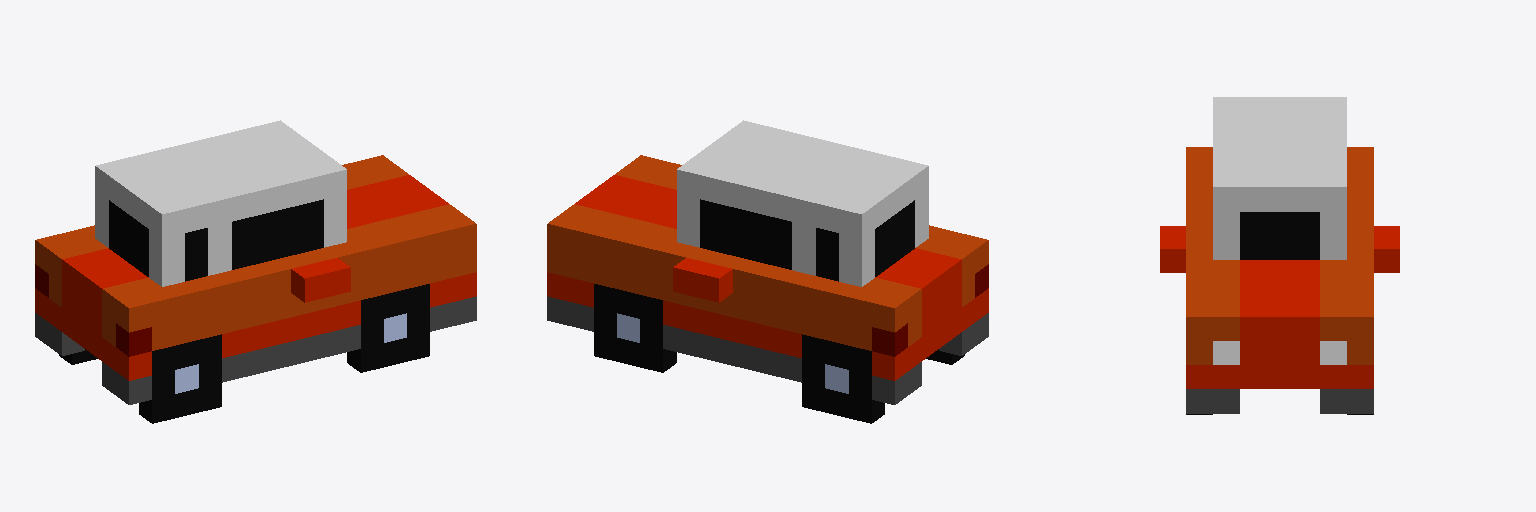
3 views of the same model, side by side, from view 1: azimuth 30°, elevation 25°; view 2: azimuth 150°, elevation 25°; view 3: azimuth 270°, elevation 25° (orthographic).
Visible parts, largest first — view 1: RedCar; view 2: RedCar; view 3: RedCar.
Boxes of the visible parts, x1=… form: RedCar: x1=35, y1=120, x2=476, y2=423; RedCar: x1=547, y1=120, x2=988, y2=423; RedCar: x1=1160, y1=97, x2=1399, y2=414.
Bounding box in the file's own units: 15 × 8 × 9.
1 materials, 1 textured.